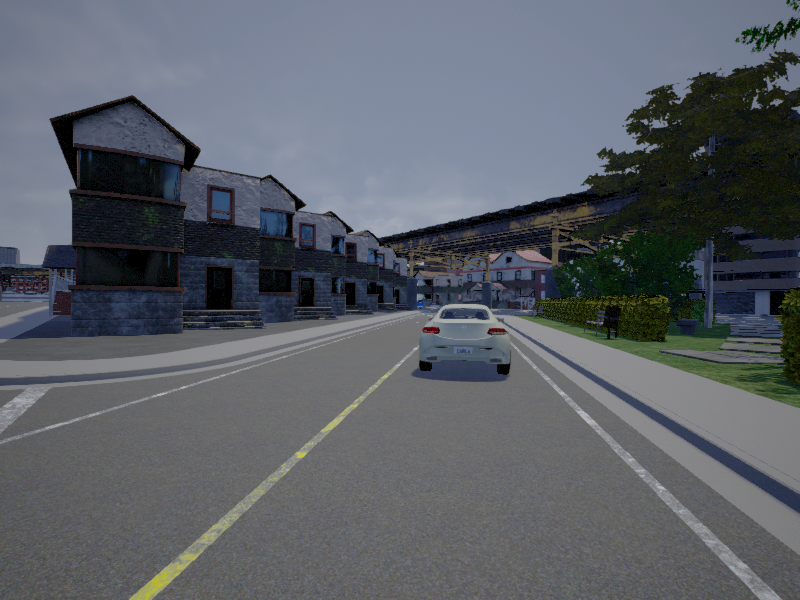Benign: (422, 303, 513, 373)
